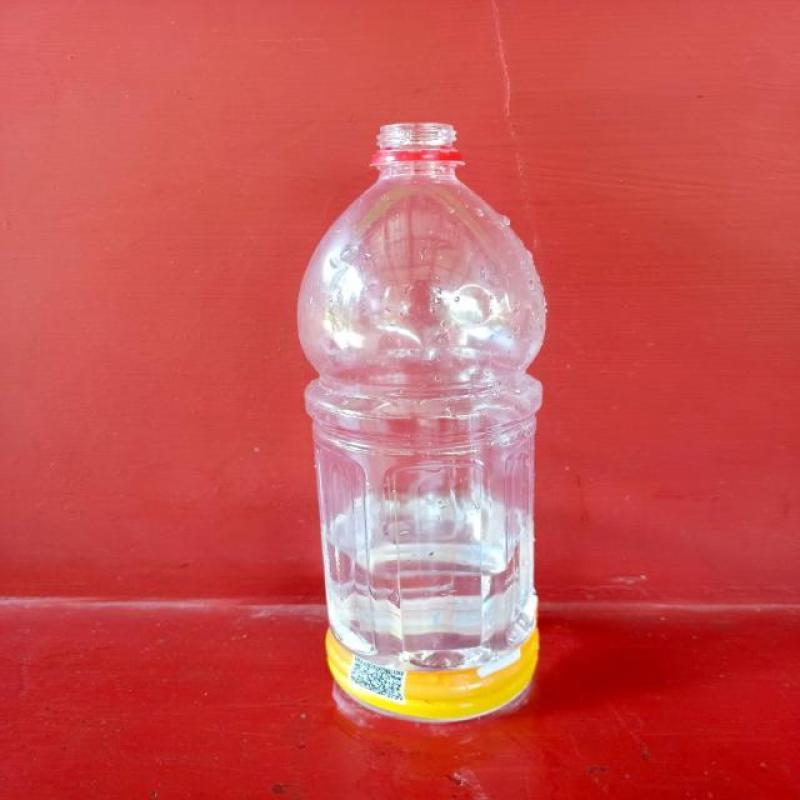botella: (299, 116, 545, 722)
